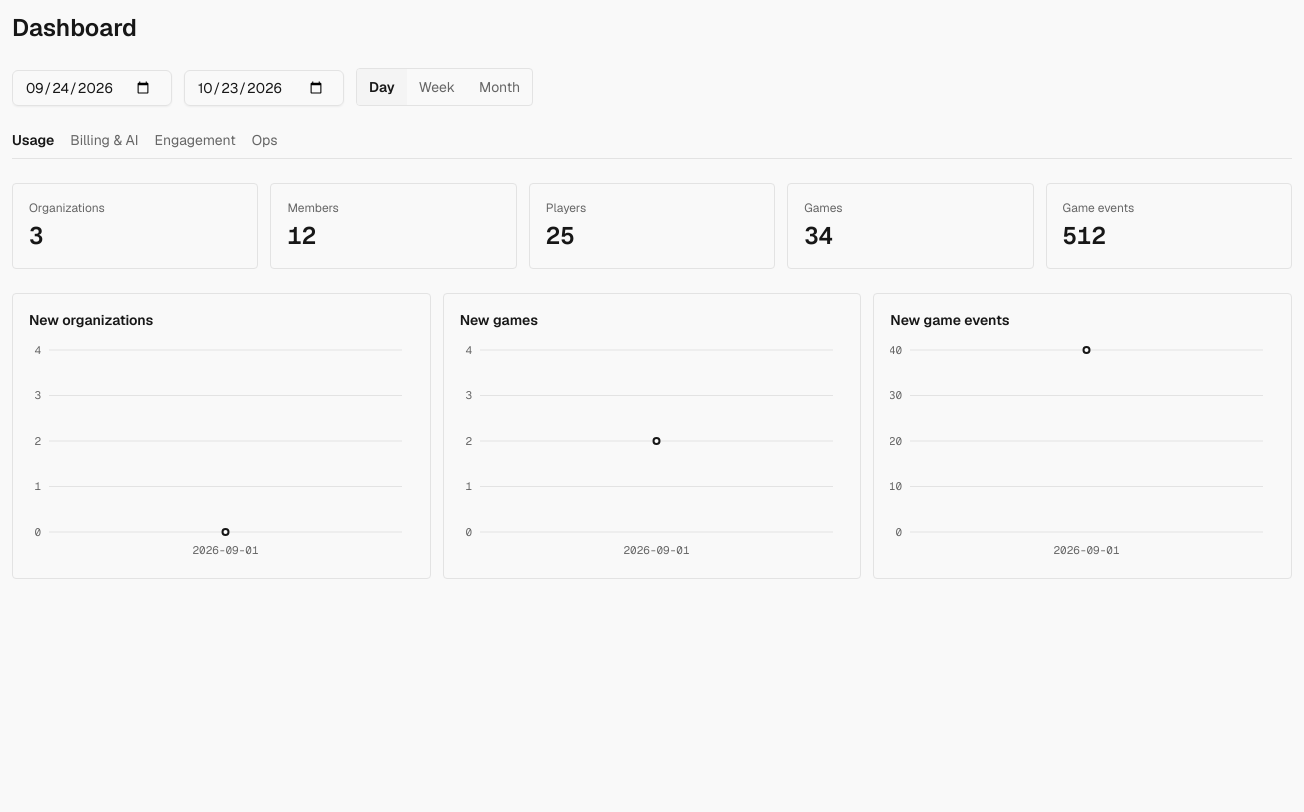
Scenario: Dashboard › does not refetch when switching tabs
The image size is (1304, 812).
Check: the tab "Usage" is shown, box [12, 130, 54, 150]
Check: the text "Game events" is shown, box [1063, 200, 1134, 216]
What coordinates should you click on to do the following:
click the tab "Billing & AI"
I would click on:
 (104, 140)
Its box is [70, 130, 138, 150].
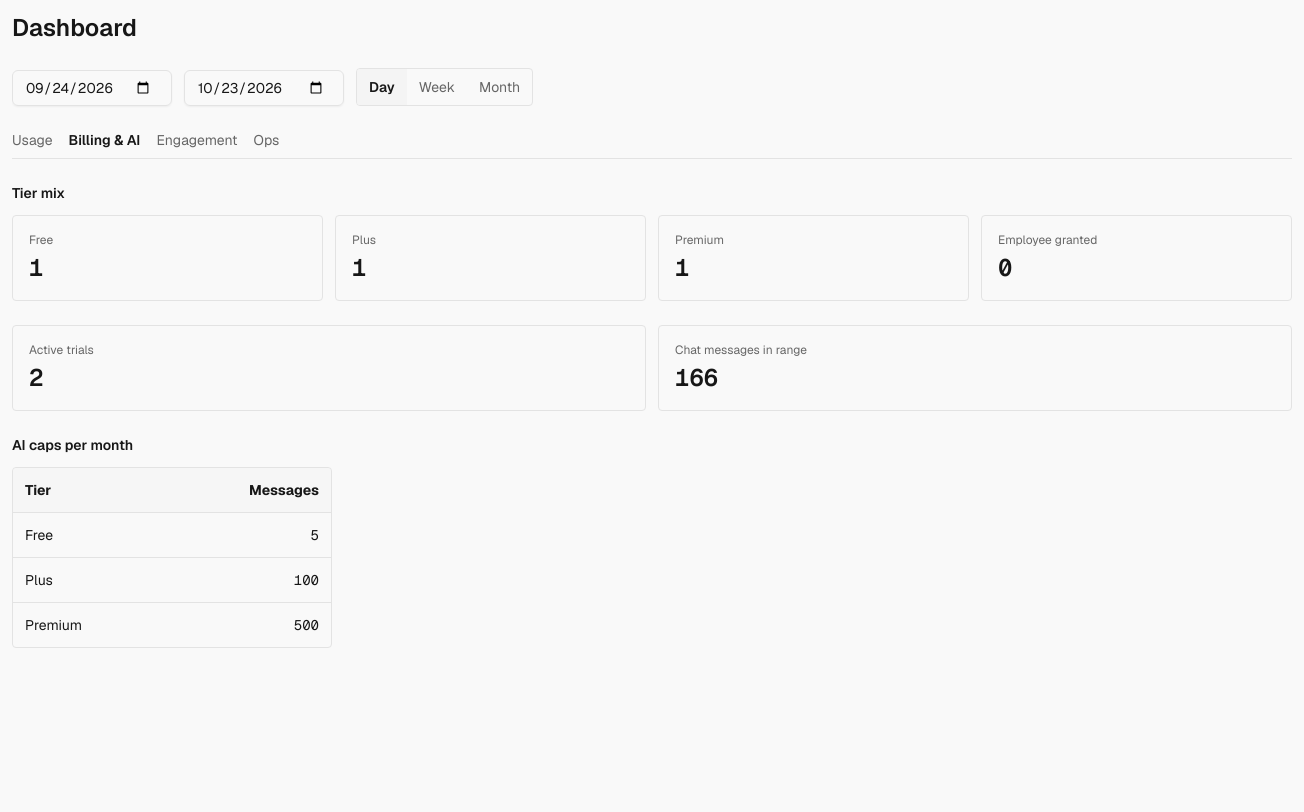
What coordinates should you click on to do the following:
click the tab "Engagement"
I would click on:
 (197, 140)
Its box is [156, 130, 238, 150].
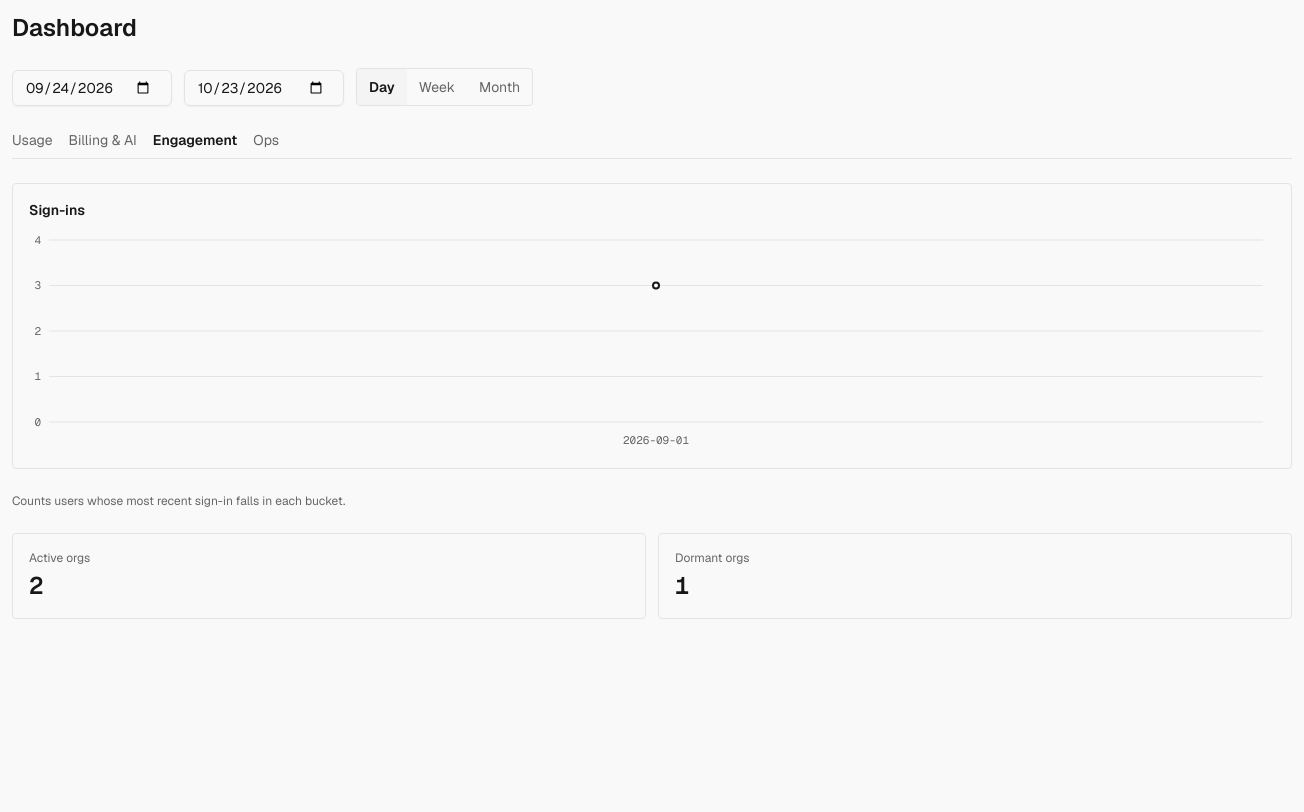
What coordinates should you click on to do the following:
click the tab "Ops"
I would click on:
 (266, 140)
Its box is [253, 130, 279, 150].
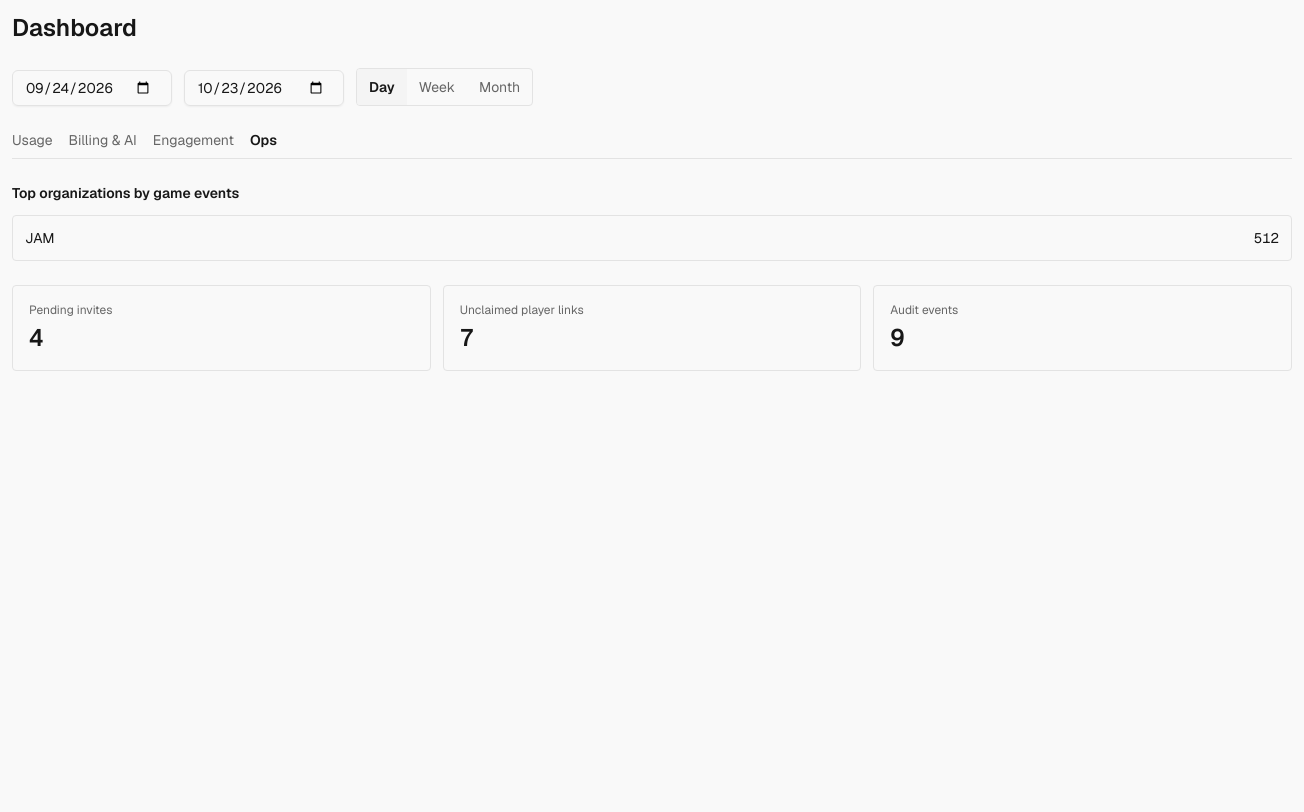
Check: the text "JAM" is shown, box [25, 228, 54, 248]
